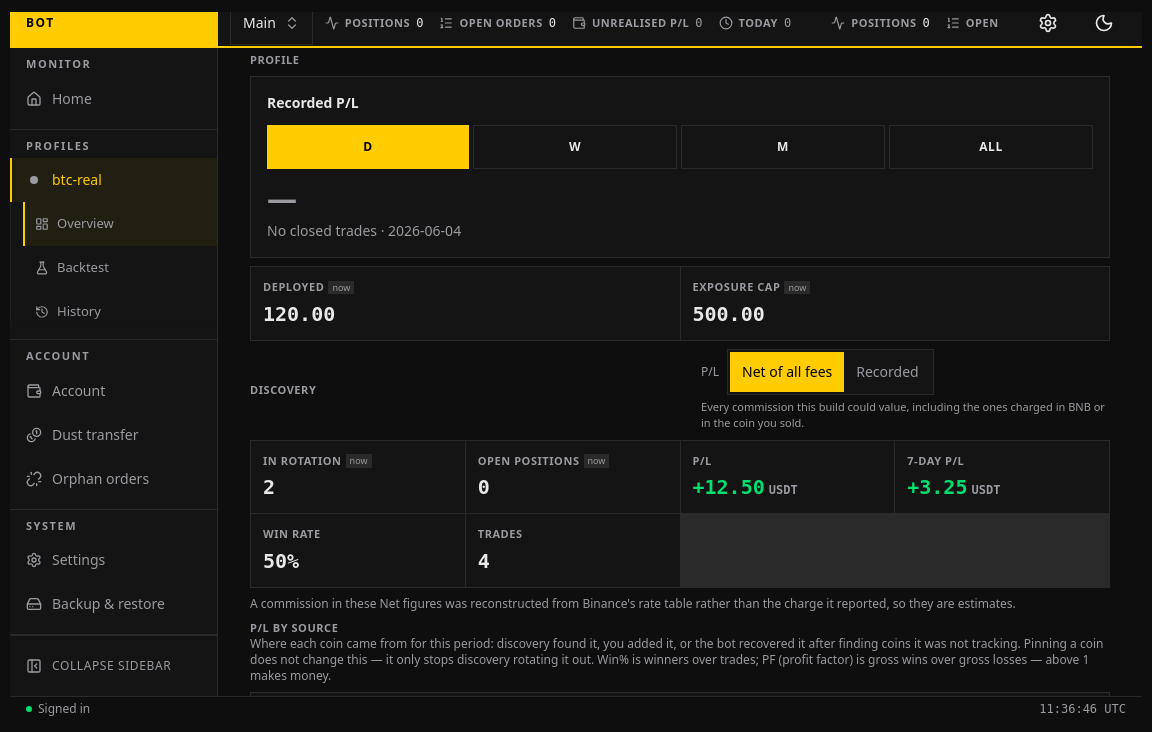
it: Home KPI surface — scoped vs unscoped › drops the estimated note under the Recorded basis, where no fee tier applies
(page scrolled)
Expected: the text with test id "scoped-fees-estimated" is shown, [250,596,1110,612]
Click the tab with test id "pnl-basis-gross" at (888, 372), box [844,352,931,392]
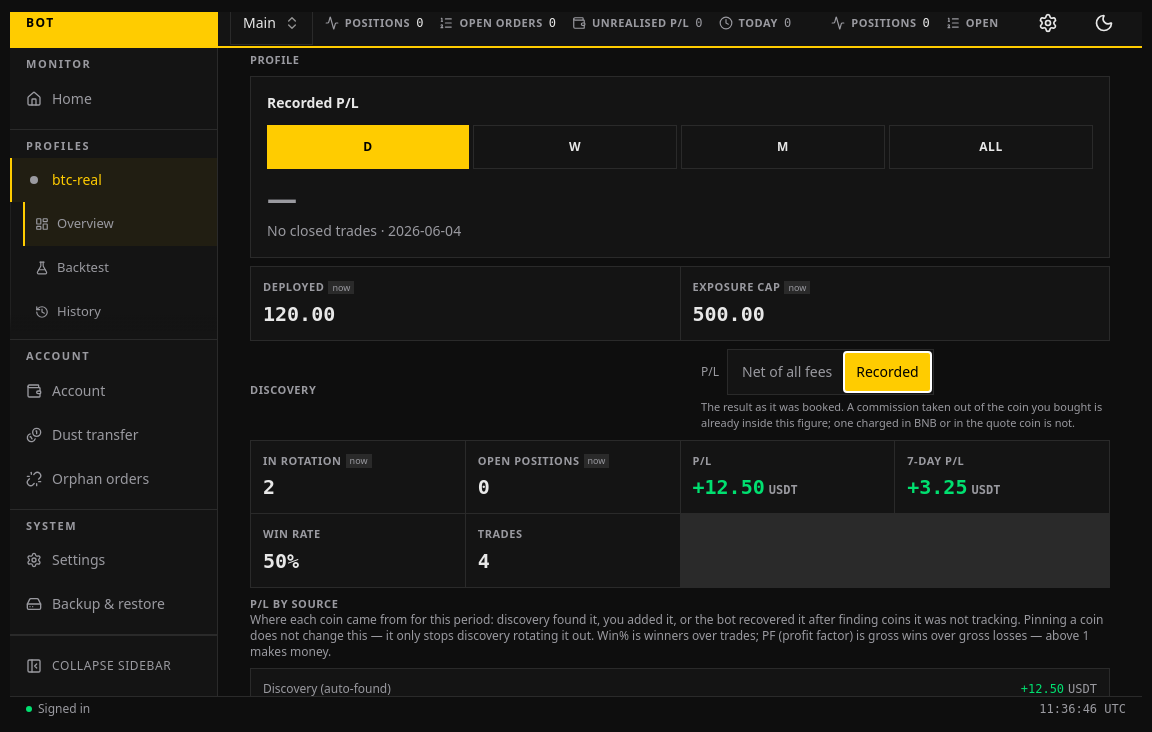
Now the text with test id "scoped-fees-estimated" is gone
